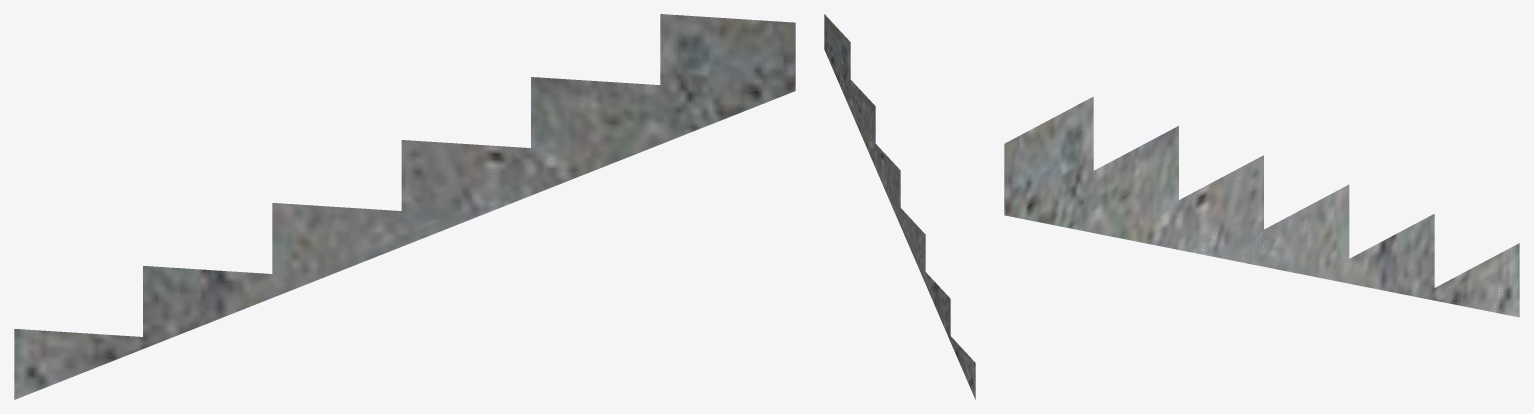
The model's file is 西庸城堡340.dae.
3 renders of one model, left to right at view 1: azimuth 30°, elevation 25°; view 2: azimuth 150°, elevation 25°; view 3: azimuth 270°, elevation 25°, orthographic. The views are drawn at different scales.
Visible parts, largest first — view 1: SketchUp; view 2: SketchUp; view 3: SketchUp.
Part boxes in pixels (bbox=[...]): SketchUp: bbox=[14, 14, 795, 399]; SketchUp: bbox=[824, 14, 975, 399]; SketchUp: bbox=[1004, 96, 1519, 317].
Size of the model in its own units: 248 by 197 by 189.
